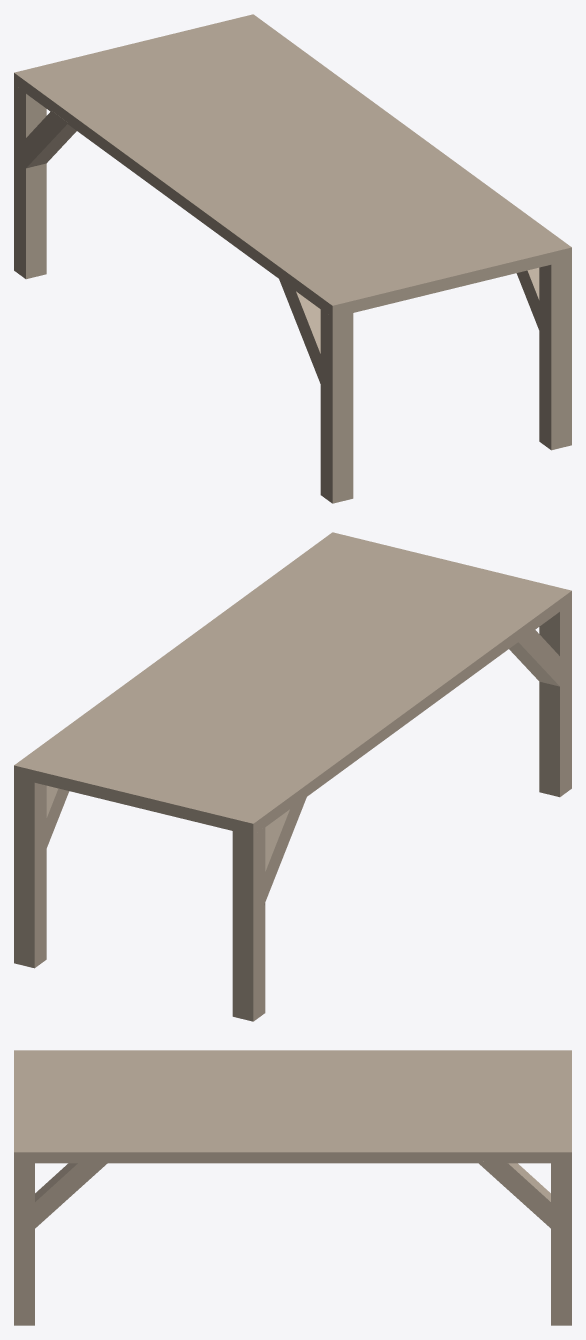
File: GrandeTable_11.fbx
3 renders of one model, top to bottom at view 1: azimuth 30°, elevation 25°; view 2: azimuth 150°, elevation 25°; view 3: azimuth 270°, elevation 25°, orthographic. The views are drawn at different scales.
Parts seen in each view (by area): view 1: pCube54, pCube52, pCube53, pCube50, pCube60, pCube56, pCube55; view 2: pCube54, pCube50, pCube51, pCube52, pCube60, pCube56, pCube59; view 3: pCube54, pCube51, pCube53, pCube55, pCube59.
Boxes of the visible parts, x1,y1,x2,y2 form: pCube54: (14,14,571,317); pCube52: (320,309,353,503); pCube53: (539,259,571,450); pCube50: (14,84,46,279); pCube60: (24,110,76,169); pCube56: (279,279,320,383); pCube55: (516,267,540,332); pCube54: (14,532,571,835); pCube50: (232,827,265,1021); pCube51: (14,777,46,968); pCube52: (539,602,571,797); pCube60: (264,794,307,904); pCube56: (509,630,559,686); pCube59: (45,785,69,851); pCube54: (14,1050,571,1163); pCube51: (551,1162,571,1325); pCube53: (14,1162,34,1325); pCube55: (33,1161,109,1229); pCube59: (477,1161,550,1228).
Size of the model in its own units: 50.24 by 39.67 by 116.
